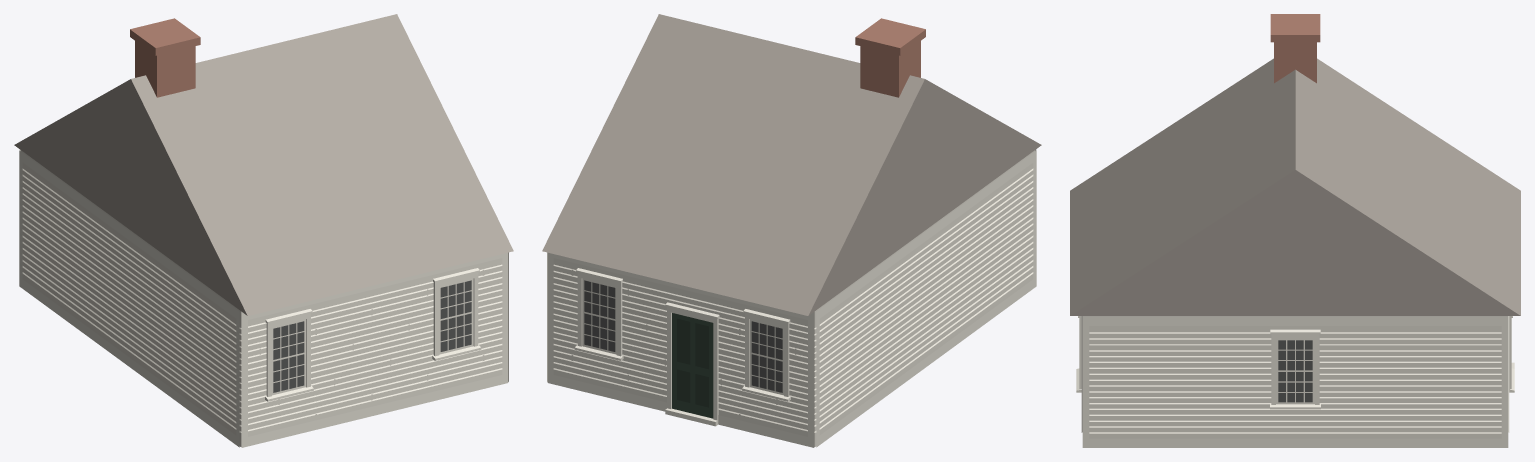
Rendered from recon_1835_south_d4_002__inferred_1835.glb.
3 renders of one model, left to right at view 1: azimuth 30°, elevation 25°; view 2: azimuth 150°, elevation 25°; view 3: azimuth 270°, elevation 25°, orthographic. The views are drawn at different scales.
Visible parts, largest first — view 1: recon_1835_south_d4_002__inferred_1835; view 2: recon_1835_south_d4_002__inferred_1835; view 3: recon_1835_south_d4_002__inferred_1835.
Part boxes in pixels (x1,y1,x2,y2): recon_1835_south_d4_002__inferred_1835: (14, 14, 513, 447); recon_1835_south_d4_002__inferred_1835: (542, 14, 1041, 447); recon_1835_south_d4_002__inferred_1835: (1070, 14, 1520, 447).
Bounding box in the file's own units: 5.97 × 6.79 × 8.85.
